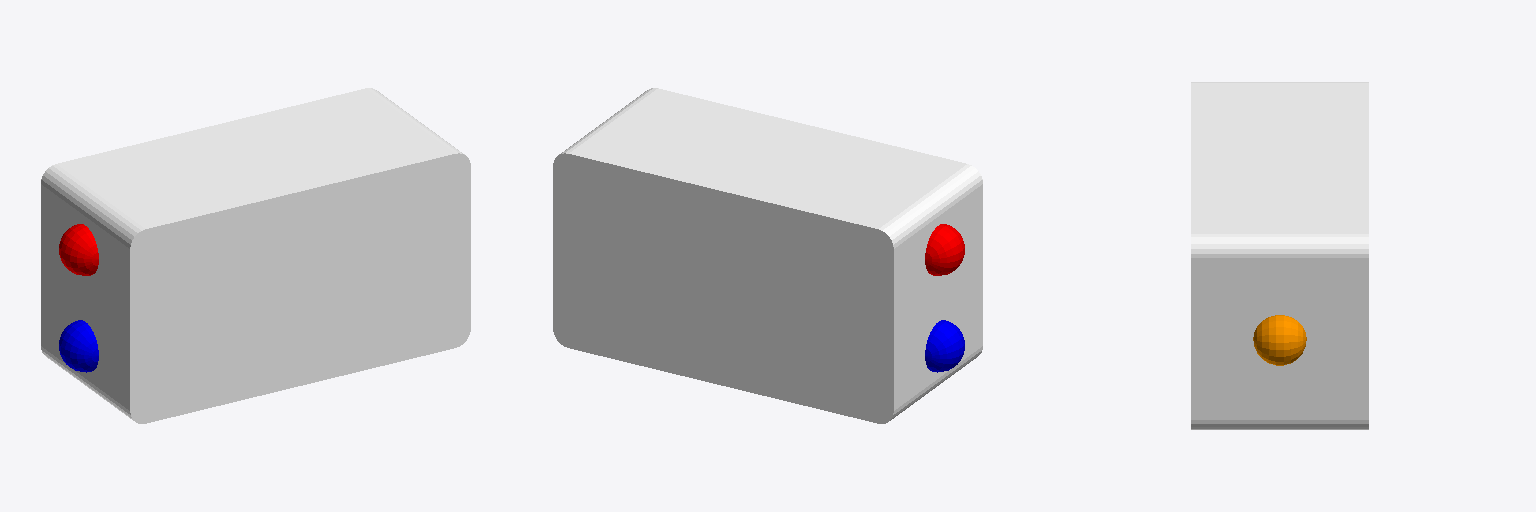
The model's file is ModMuBanGate.obj.
3 views of the same model, side by side, from view 1: azimuth 30°, elevation 25°; view 2: azimuth 150°, elevation 25°; view 3: azimuth 270°, elevation 25° (orthographic).
Parts seen in each view (by area): view 1: ModMuBanGate; view 2: ModMuBanGate; view 3: ModMuBanGate.
Part boxes in pixels (left/top/right/bottom): ModMuBanGate: left=41, top=88, right=470, bottom=423; ModMuBanGate: left=553, top=88, right=982, bottom=423; ModMuBanGate: left=1191, top=82, right=1368, bottom=429.
Bounding box in the file's own units: 2.5 × 1.2 × 1.